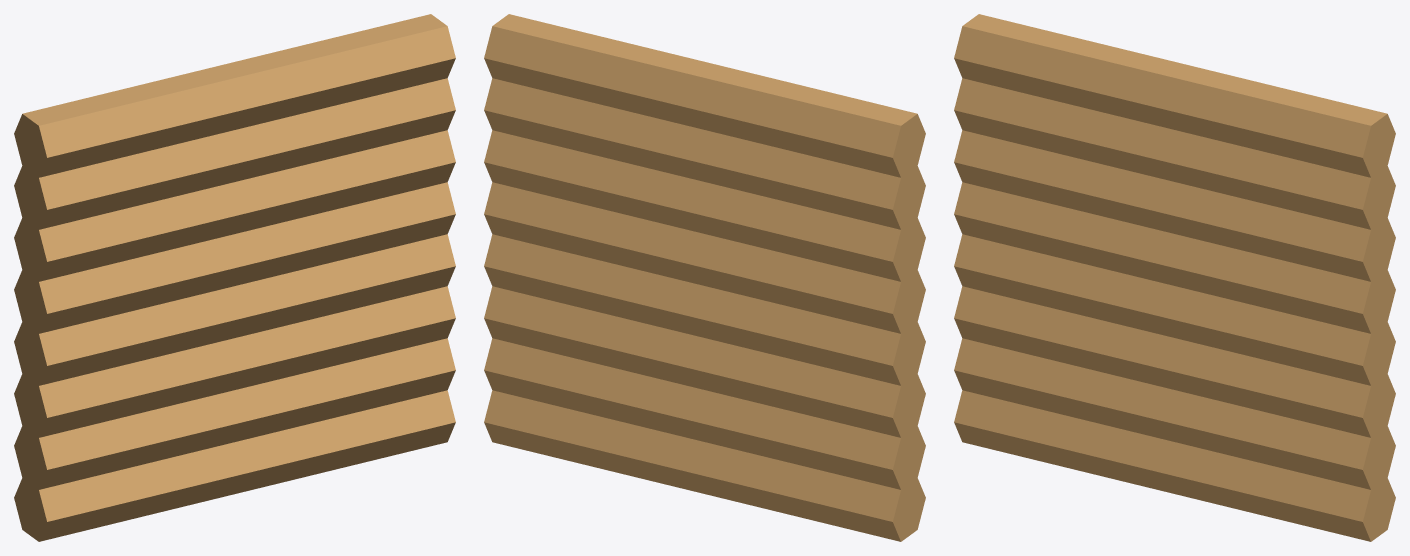
Rendered from cabinWall.fbx.
The picture shows the model from 3 angles, left to right: view 1: azimuth 30°, elevation 25°; view 2: azimuth 150°, elevation 25°; view 3: azimuth 330°, elevation 25°; orthographic projection.
Visible parts, largest first — view 1: cabinWall; view 2: cabinWall; view 3: cabinWall.
Part boxes in pixels (x1,y1,x2,y2): cabinWall: (14,14,455,541); cabinWall: (484,14,925,541); cabinWall: (954,14,1395,541).
Bounding box in the file's own units: 10 × 9.73 × 1.4.
